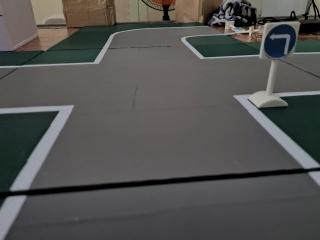left: (260, 21, 298, 60)
